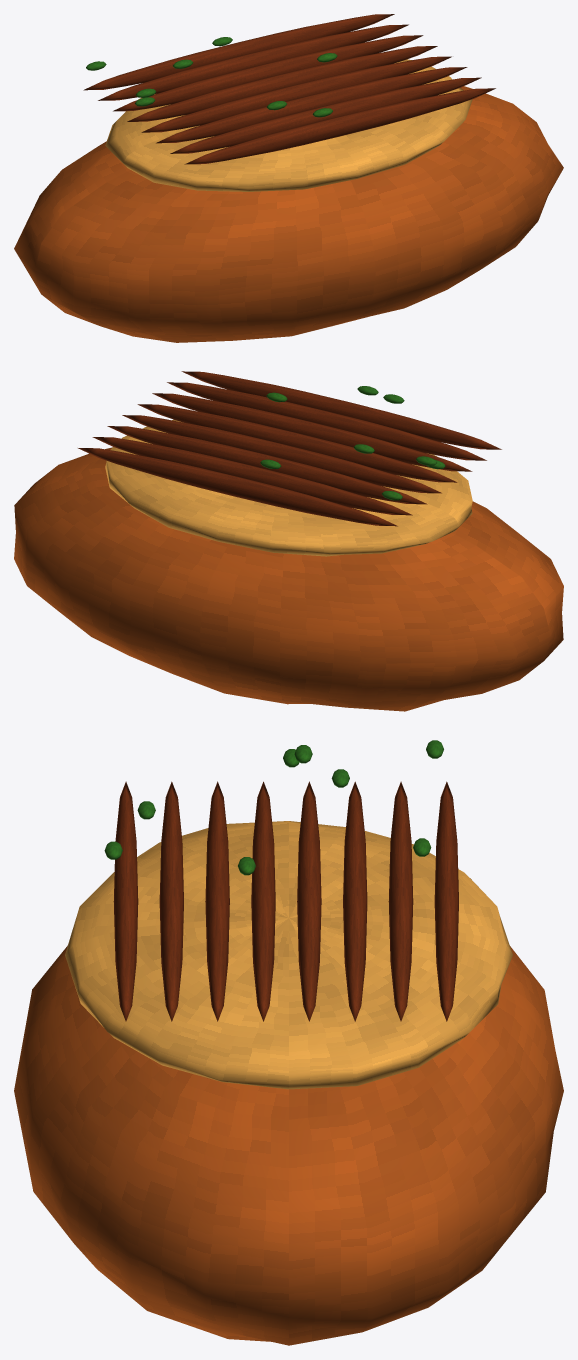
The model's file is bread_yakisoba.glb.
The picture shows the model from 3 angles, top to bottom: view 1: azimuth 30°, elevation 25°; view 2: azimuth 150°, elevation 25°; view 3: azimuth 270°, elevation 25°; orthographic projection. The views are drawn at different scales.
Visible parts, largest first — view 1: ふっくらした生地.005, 具材を載せるくぼみ.005, 焼きそばの麺, 焼きそばの麺.004, 焼きそばの麺.003, 焼きそばの麺.002, 焼きそばの麺.006, 焼きそばの麺.001, 焼きそばの麺.007, 焼きそばの麺.005; view 2: ふっくらした生地.005, 具材を載せるくぼみ.005, 焼きそばの麺.007, 焼きそばの麺.004, 焼きそばの麺.006, 焼きそばの麺.001, 焼きそばの麺.003, 焼きそばの麺, 焼きそばの麺.005, 焼きそばの麺.002; view 3: ふっくらした生地.005, 具材を載せるくぼみ.005, 焼きそばの麺.004, 焼きそばの麺.002, 焼きそばの麺.005, 焼きそばの麺.001, 焼きそばの麺.007, 焼きそばの麺.006, 焼きそばの麺.003, 焼きそばの麺.
Part boxes in pixels (x1,y1,x2,y2): ふっくらした生地.005: (14, 86, 563, 342); 具材を載せるくぼみ.005: (105, 59, 472, 191); 焼きそばの麺: (184, 88, 495, 164); 焼きそばの麺.004: (127, 46, 437, 121); 焼きそばの麺.003: (141, 56, 451, 132); 焼きそばの麺.002: (156, 67, 467, 143); 焼きそばの麺.006: (98, 24, 408, 100); 焼きそばの麺.001: (170, 77, 481, 153); 焼きそばの麺.007: (83, 14, 394, 90); 焼きそばの麺.005: (113, 35, 423, 111); ふっくらした生地.005: (14, 447, 563, 711); 具材を載せるくぼみ.005: (105, 419, 472, 556); 焼きそばの麺.007: (78, 448, 397, 526); 焼きそばの麺.004: (122, 415, 441, 493); 焼きそばの麺.006: (92, 437, 412, 515); 焼きそばの麺.001: (167, 382, 486, 460); 焼きそばの麺.003: (137, 404, 457, 482); 焼きそばの麺: (181, 371, 501, 449); 焼きそばの麺.005: (107, 426, 427, 504); 焼きそばの麺.002: (152, 393, 472, 471); ふっくらした生地.005: (14, 945, 563, 1345); 具材を載せるくぼみ.005: (65, 821, 512, 1089); 焼きそばの麺.004: (297, 781, 321, 1021); 焼きそばの麺.002: (205, 781, 229, 1021); 焼きそばの麺.005: (343, 781, 367, 1021); 焼きそばの麺.001: (159, 781, 183, 1021); 焼きそばの麺.007: (434, 781, 458, 1021); 焼きそばの麺.006: (388, 781, 413, 1021); 焼きそばの麺.003: (251, 781, 275, 1021); 焼きそばの麺: (113, 781, 138, 1021).
Size of the model in its own units: 0.9118 by 0.4404 by 0.54.
4 materials, 4 textured.
